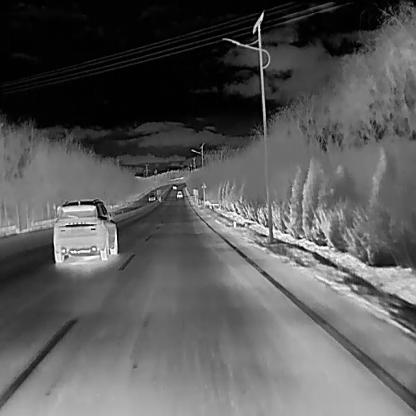car: (52, 199, 118, 263), (146, 190, 156, 202), (176, 190, 184, 198), (171, 183, 175, 188)
